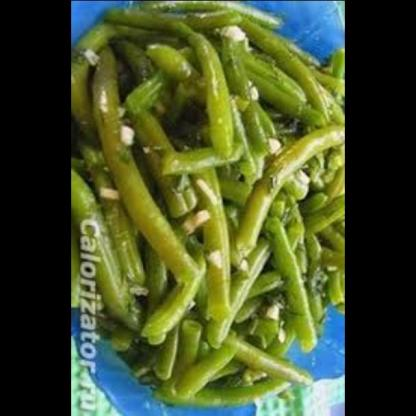fasol: (72, 15, 345, 385)
